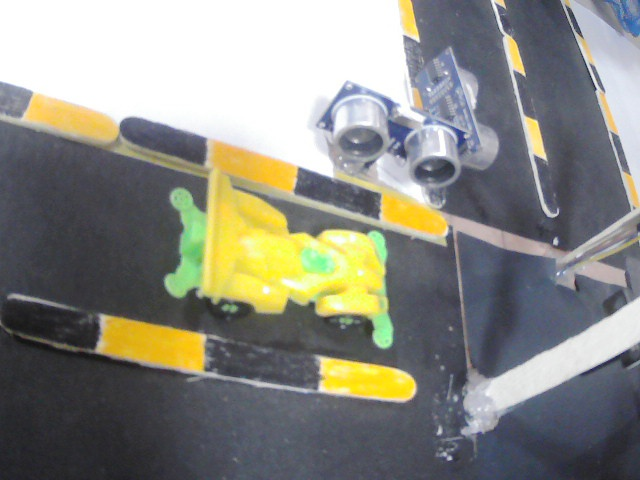car: (157, 173, 404, 345)
uno_breadboard: (314, 79, 469, 190), (413, 44, 495, 173)
